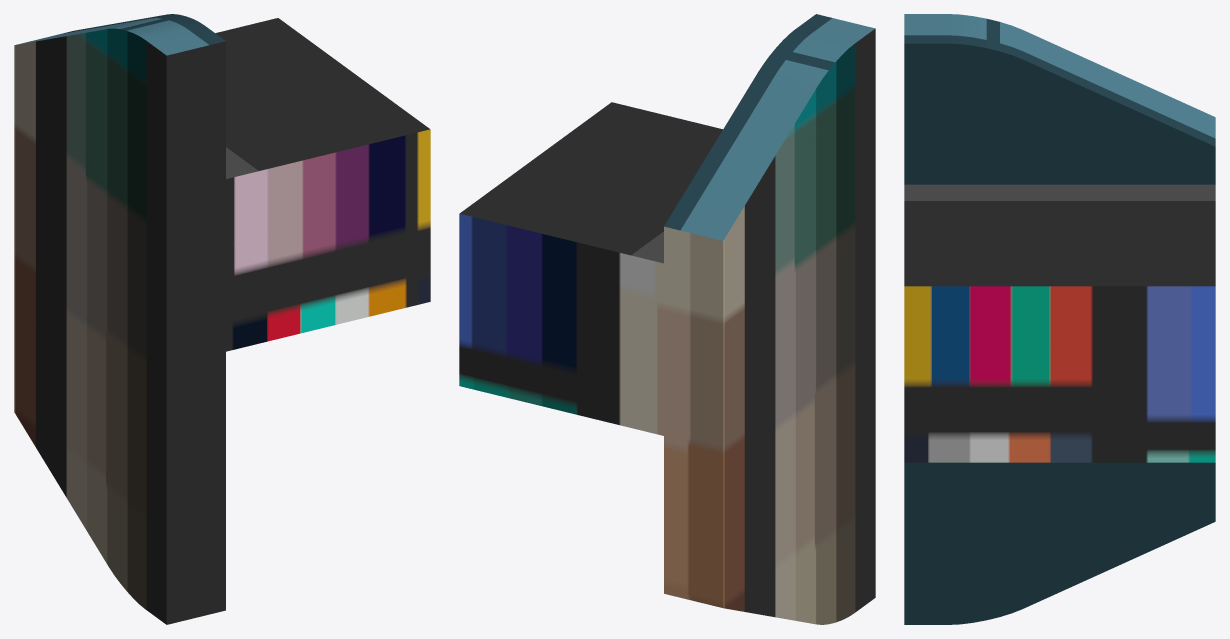
File: tile_1_1_5.gltf
3 views of the same model, side by side, from view 1: azimuth 30°, elevation 25°; view 2: azimuth 150°, elevation 25°; view 3: azimuth 270°, elevation 25° (orthographic). The views are drawn at different scales.
Visible parts, largest first — view 1: arena.sides.high.010, arena.floor.main.004; view 2: arena.sides.high.010, arena.floor.main.004; view 3: arena.floor.main.004, arena.sides.high.010.
Boxes of the visible parts, bbox=[...] form: arena.sides.high.010: bbox=[14, 14, 225, 624]; arena.floor.main.004: bbox=[215, 18, 430, 351]; arena.sides.high.010: bbox=[664, 14, 875, 624]; arena.floor.main.004: bbox=[459, 102, 722, 435]; arena.floor.main.004: bbox=[904, 184, 1215, 462]; arena.sides.high.010: bbox=[904, 14, 1215, 624].
Size of the model in its own units: 8 by 16.5 by 8.
Materials: 1 (1 with a texture image).
